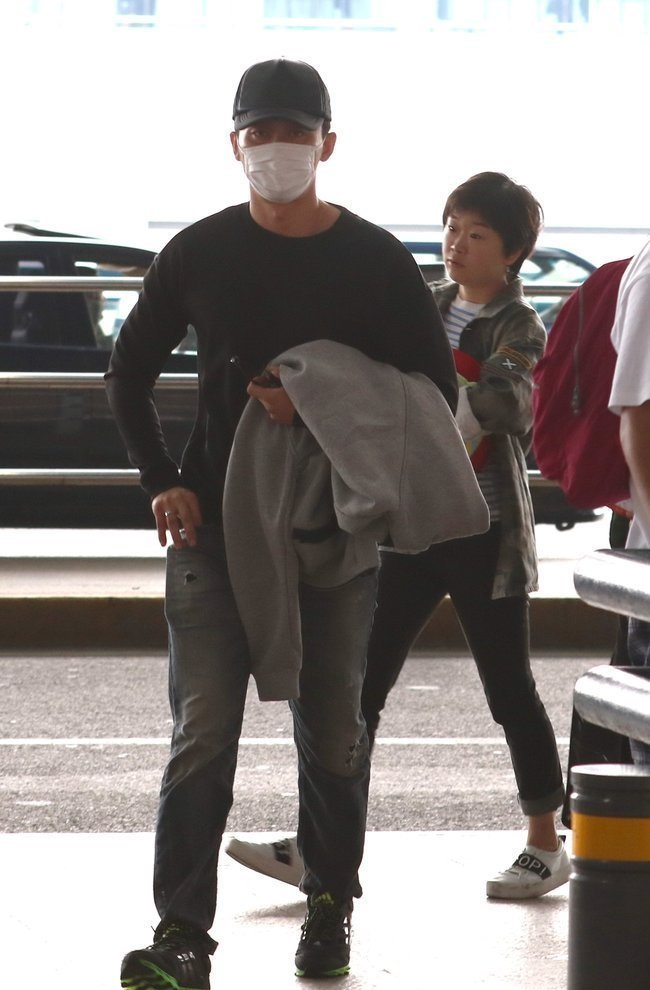face_mask: (244, 129, 316, 200), (443, 202, 498, 285)
